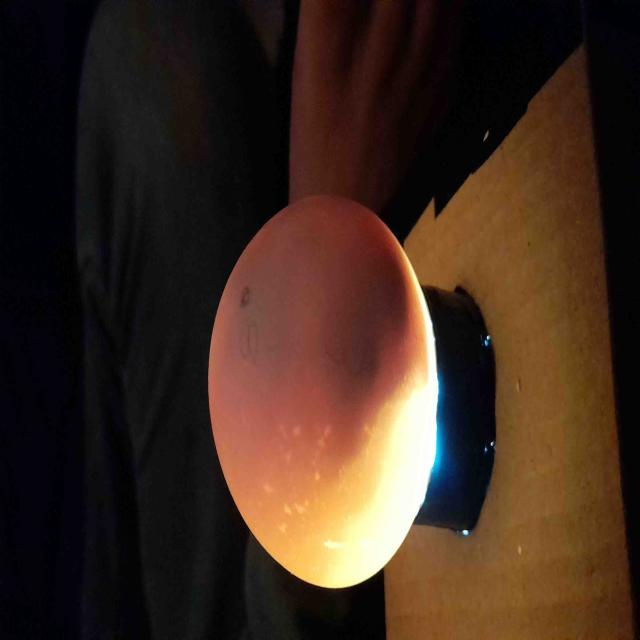Eggs: (209, 197, 438, 589)
